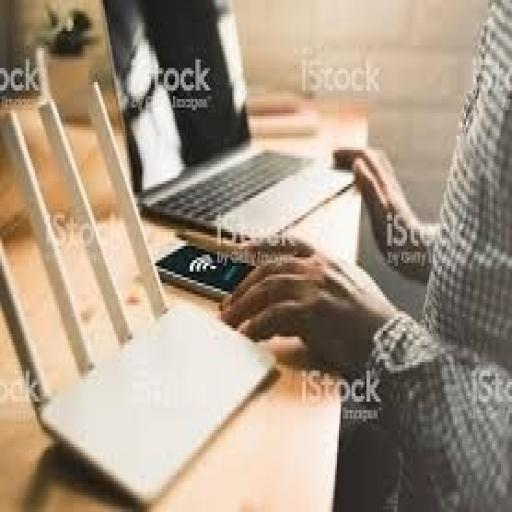texting: (216, 0, 510, 509)
